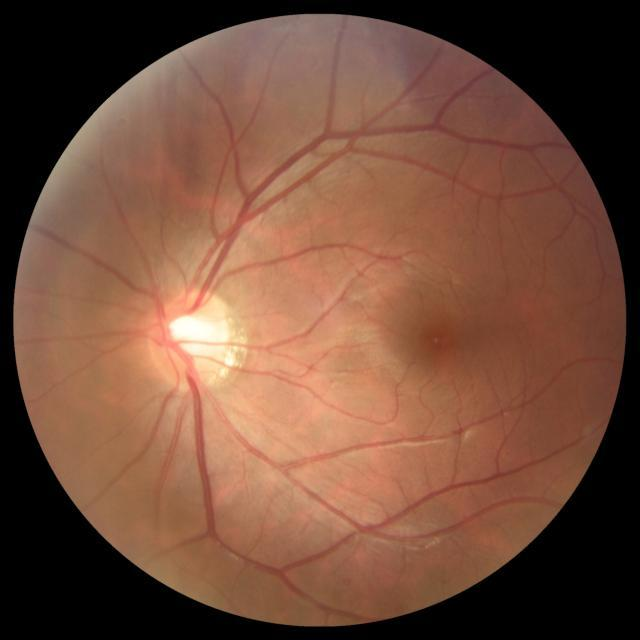OC: (168, 311, 212, 360)
OD: (148, 286, 233, 388)
